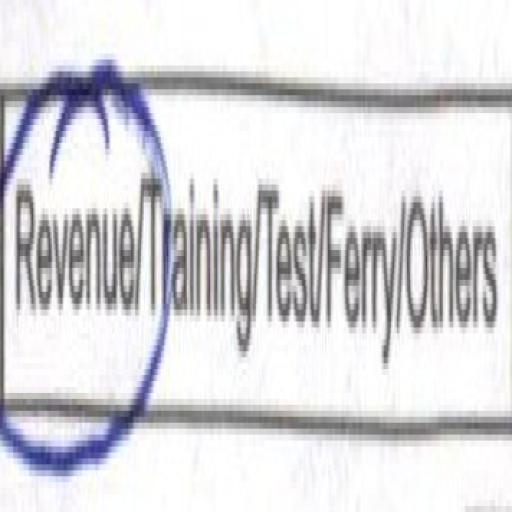check: (1, 0, 138, 484)
